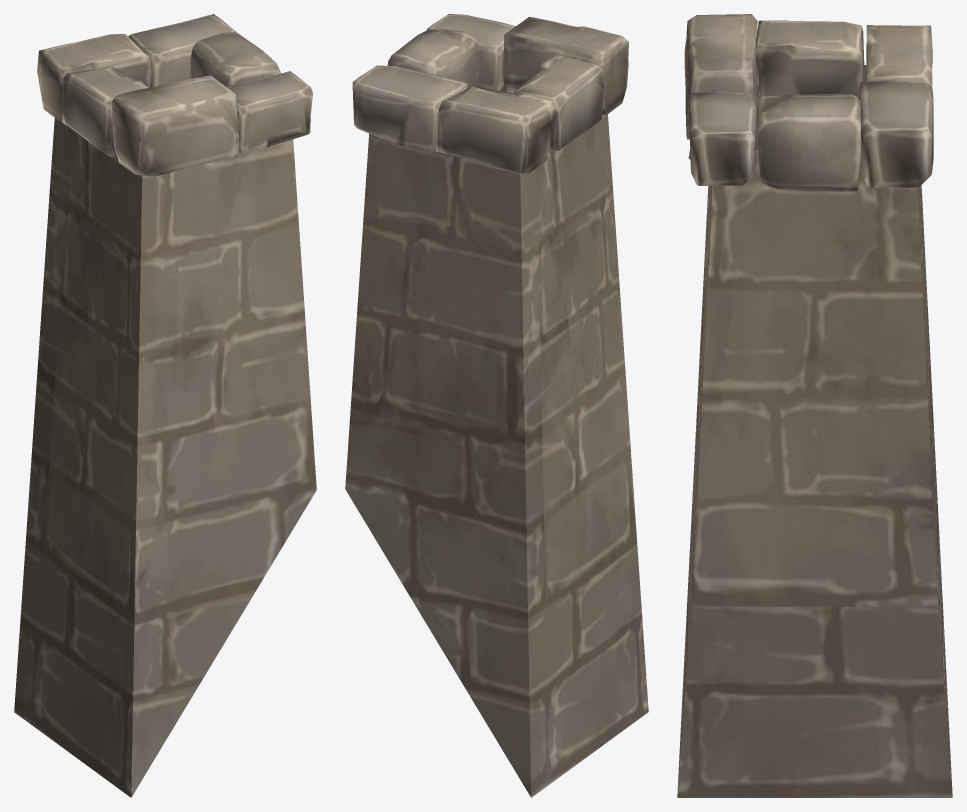
Rendered from chimney.glb.
3 renders of one model, left to right at view 1: azimuth 30°, elevation 25°; view 2: azimuth 150°, elevation 25°; view 3: azimuth 270°, elevation 25°, orthographic. The views are drawn at different scales.
Parts seen in each view (by area): view 1: Prop_Chimney; view 2: Prop_Chimney; view 3: Prop_Chimney.
Boxes of the visible parts, <box> form: Prop_Chimney: <box>14,14,316,797</box>; Prop_Chimney: <box>345,14,648,797</box>; Prop_Chimney: <box>677,14,952,797</box>.
Bounding box in the file's own units: 0.9459 × 3.18 × 1.
Materials: 2 (2 with a texture image).
